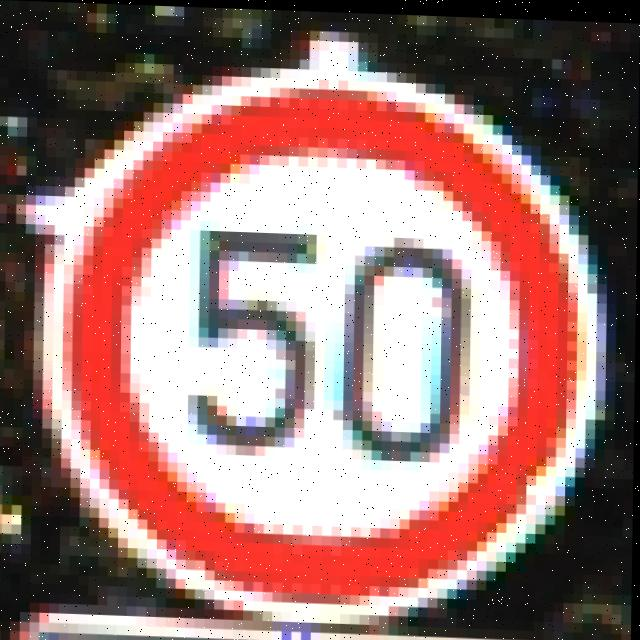speed_limit_50: (32, 44, 606, 616)
